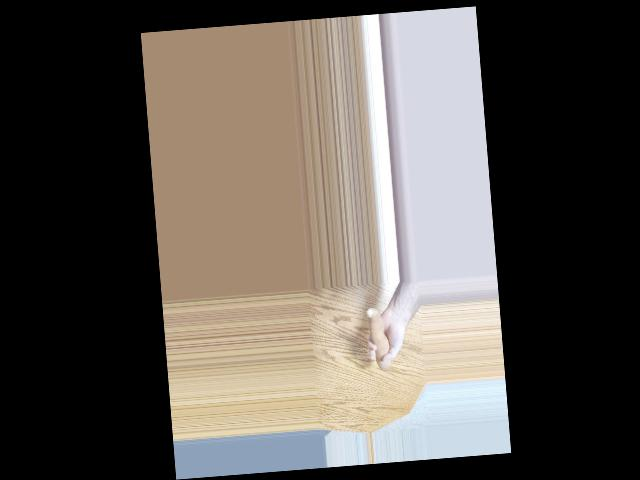sweet_potato: (367, 304, 395, 376)
